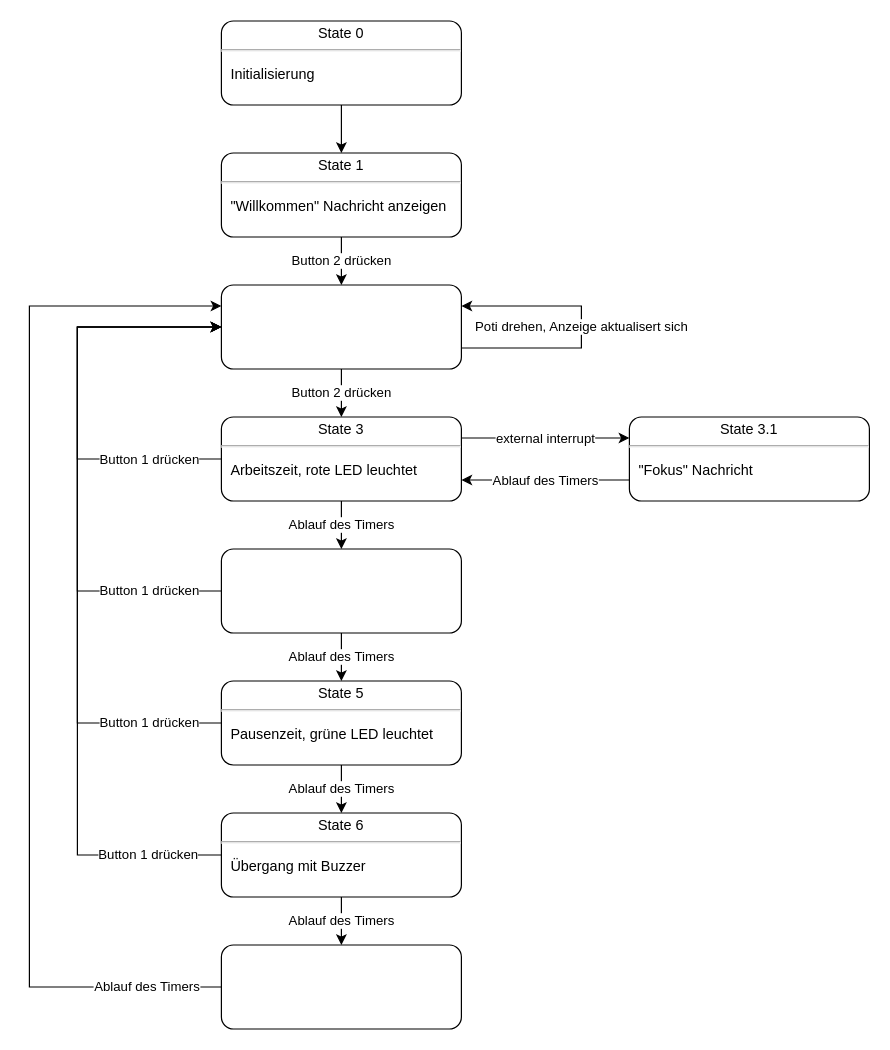
Some shapes in this 890 by 1050 pixel diagram are drawn without their labels. Here are the shapes that lost their labels. From the top down, the box of each, then its label:
(220, 284, 461, 369): State 2 Konfiguration
(220, 548, 461, 633): State 4 Übergang mit Buzzer
(220, 944, 461, 1029): State 7 Endnachricht anzeigen, Timer stoppen
